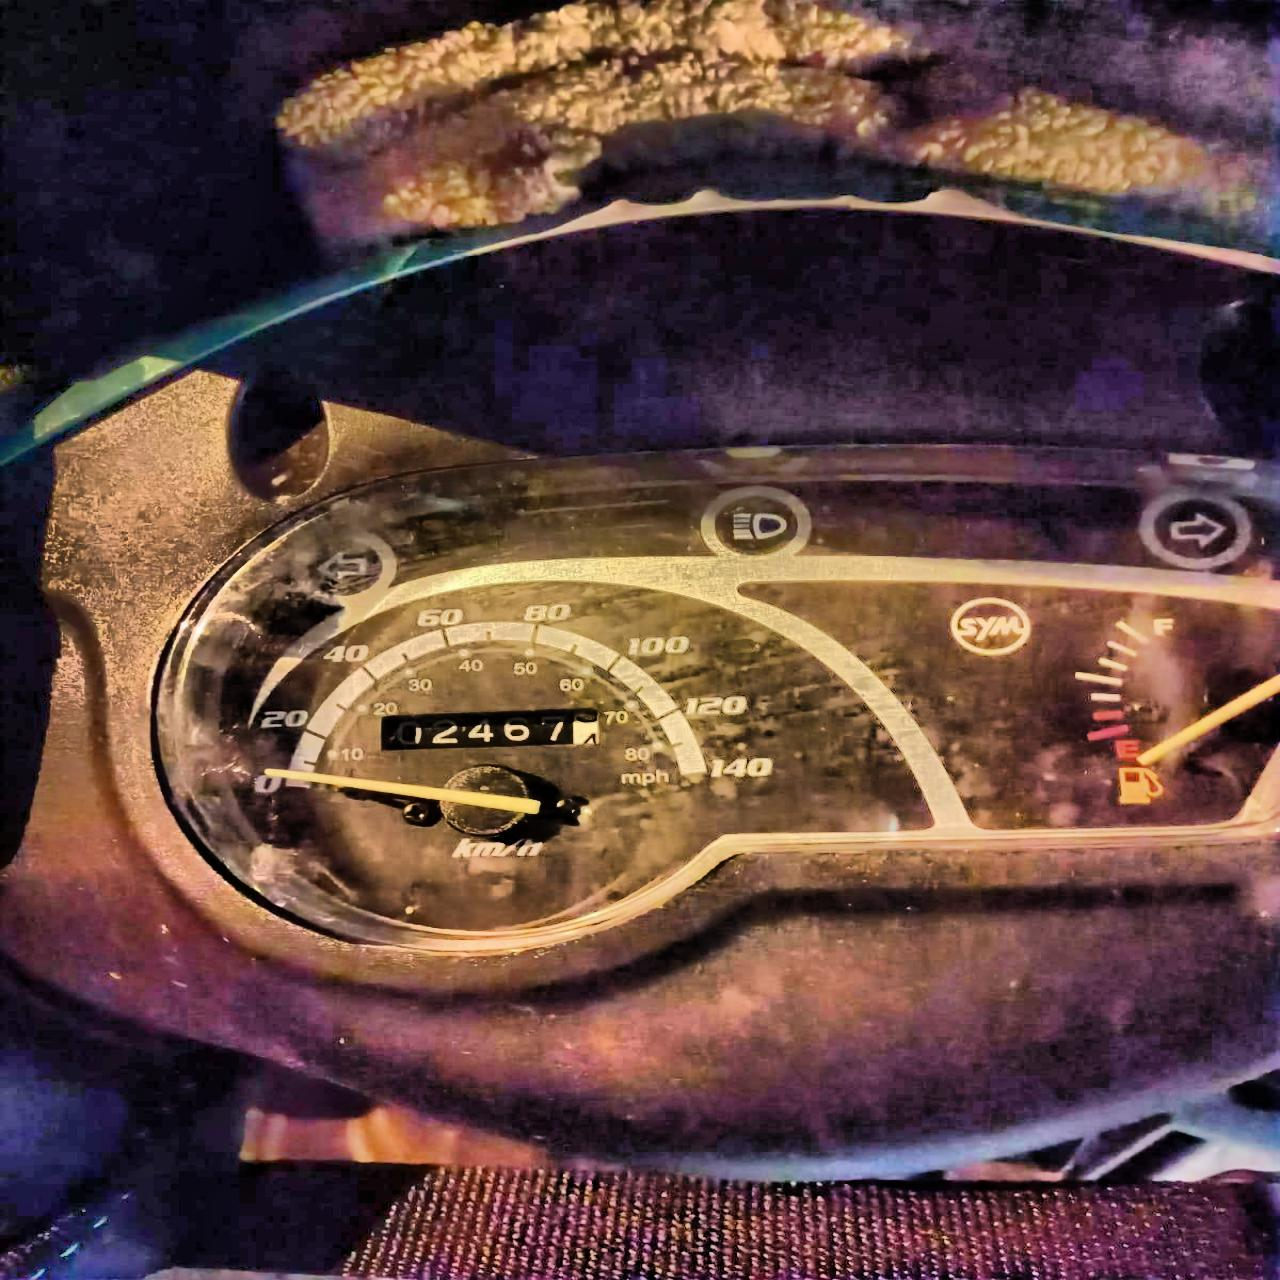0: (394, 720, 421, 745), (384, 701, 399, 713)
2: (428, 716, 458, 745), (373, 701, 383, 715)
4: (464, 716, 493, 743), (577, 730, 602, 749)
6: (499, 715, 530, 742)
7: (538, 713, 568, 744)
odometer: (374, 704, 606, 753)
